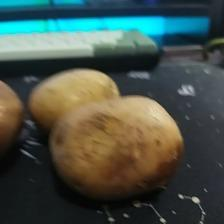Damaged potato: (47, 94, 185, 207)
Potato: (29, 69, 125, 134)
